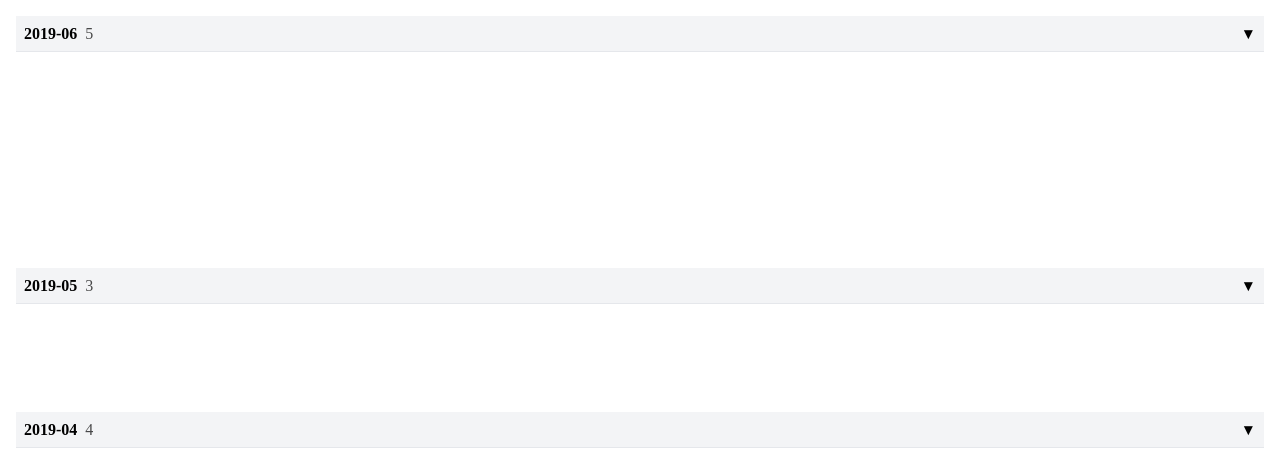
it: ExplorerGrid sections › the default header shows key, count and a toggle that collapses
This screenshot has width=1280, height=465.
Expected: the element showing "2019-05 3 ▾" is shown, x1=16 y1=268 x2=1264 y2=304
Click the button "▾" in the row of "2019-05" at [1248, 286], box x1=1240 y1=276 x2=1256 y2=295
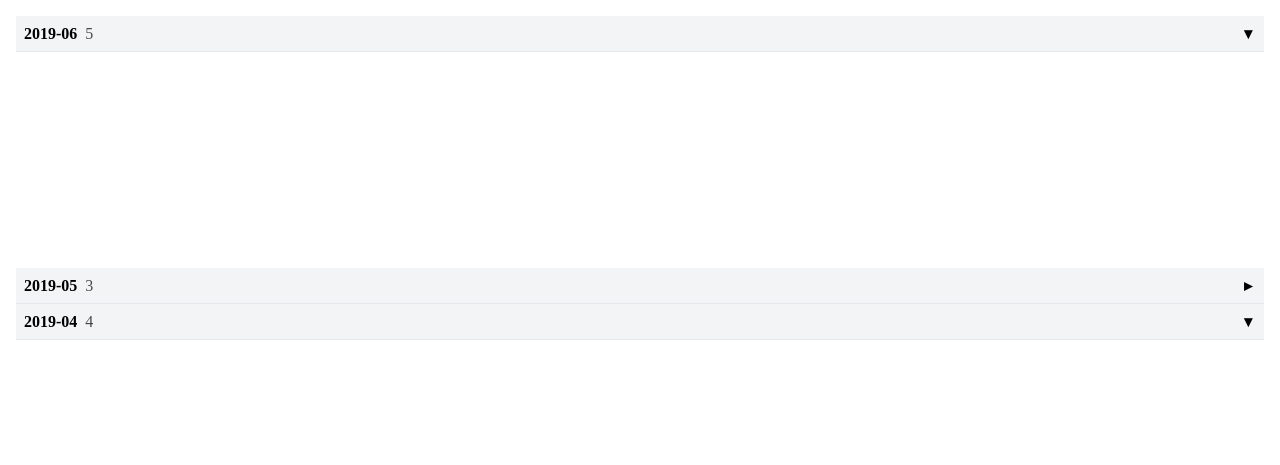
Expected: the element with class "eg-section-header--collapsed" is shown, x1=16 y1=268 x2=1264 y2=304
